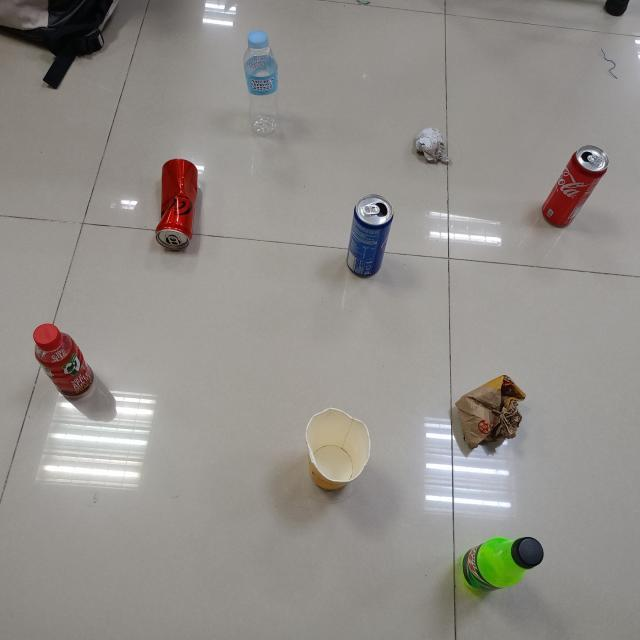recyclable waste: (300, 401, 376, 494), (449, 368, 531, 454), (537, 140, 612, 232), (454, 529, 550, 600), (30, 316, 99, 404), (238, 26, 286, 140), (341, 188, 397, 281), (152, 154, 202, 253), (410, 122, 454, 168)
